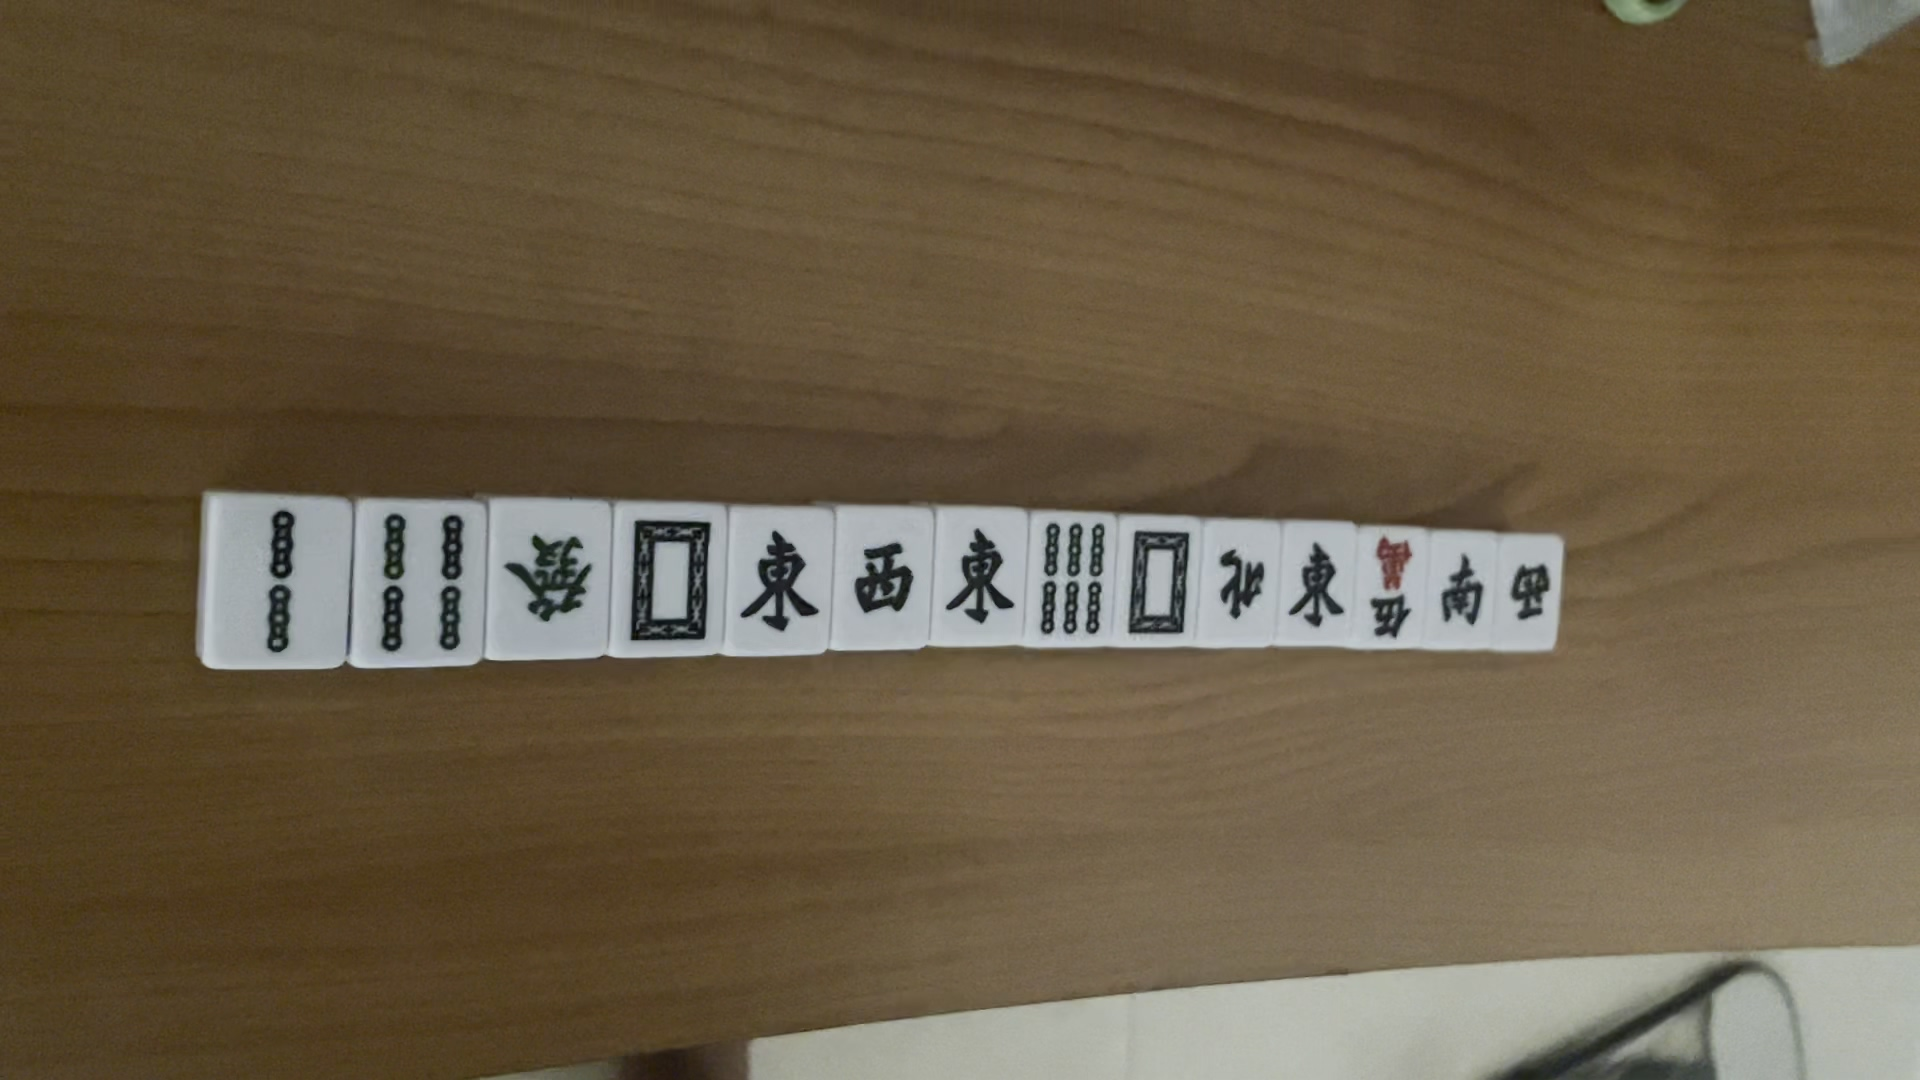b-2: (247, 504, 313, 657)
b-4: (373, 505, 469, 659)
b-6: (1035, 521, 1104, 637)
c-5: (1367, 533, 1414, 638)
honors-east: (738, 527, 820, 641), (945, 525, 1019, 632), (1286, 538, 1342, 632)
honors-green: (504, 524, 603, 634)
honors-north: (1213, 537, 1269, 624)
honors-south: (1441, 553, 1491, 636)
honors-west: (845, 537, 919, 625), (1505, 560, 1553, 626)
honors-white: (618, 512, 716, 647), (1125, 527, 1193, 641)
